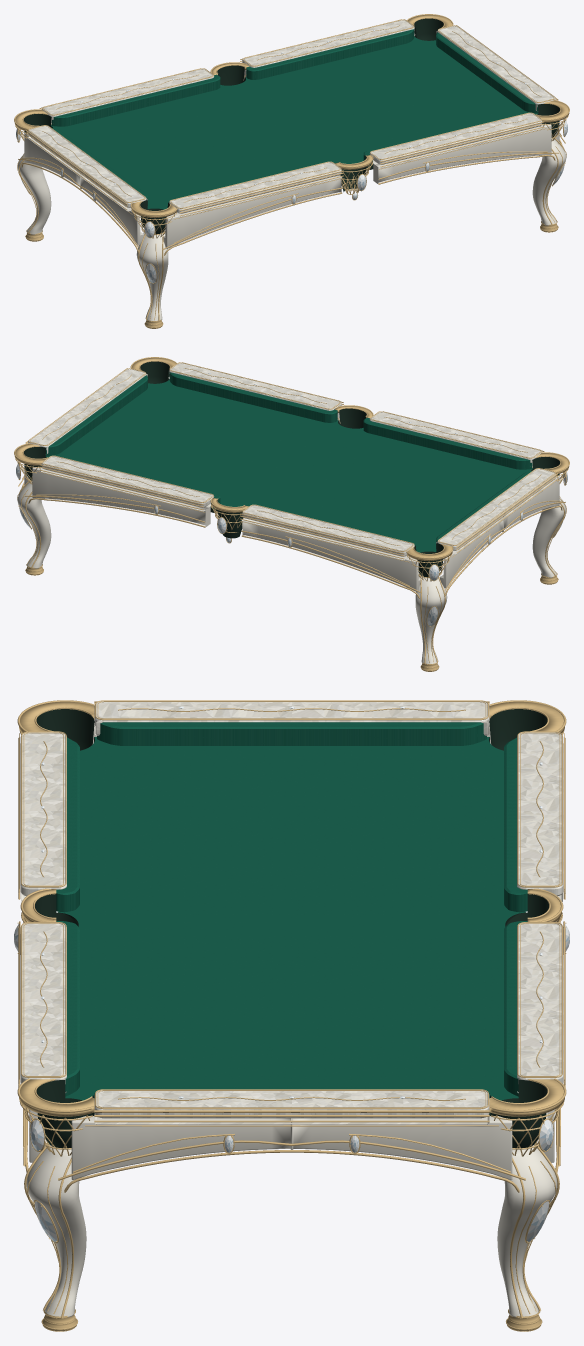
Rendered from jewelry-table-daylight.glb.
The picture shows the model from 3 angles, top to bottom: view 1: azimuth 30°, elevation 25°; view 2: azimuth 150°, elevation 25°; view 3: azimuth 270°, elevation 25°; orthographic projection. The views are drawn at different scales.
Parts seen in each view (by area): view 1: Pearl champagne full table; view 2: Pearl champagne full table; view 3: Pearl champagne full table.
Boxes of the visible parts, x1,y1,x2,y2 form: Pearl champagne full table: (14,14,569,328); Pearl champagne full table: (14,357,569,671); Pearl champagne full table: (14,700,569,1331).
Bounding box in the file's own units: 2.91 × 0.778 × 1.67.
Materials: 8 (2 with a texture image).
